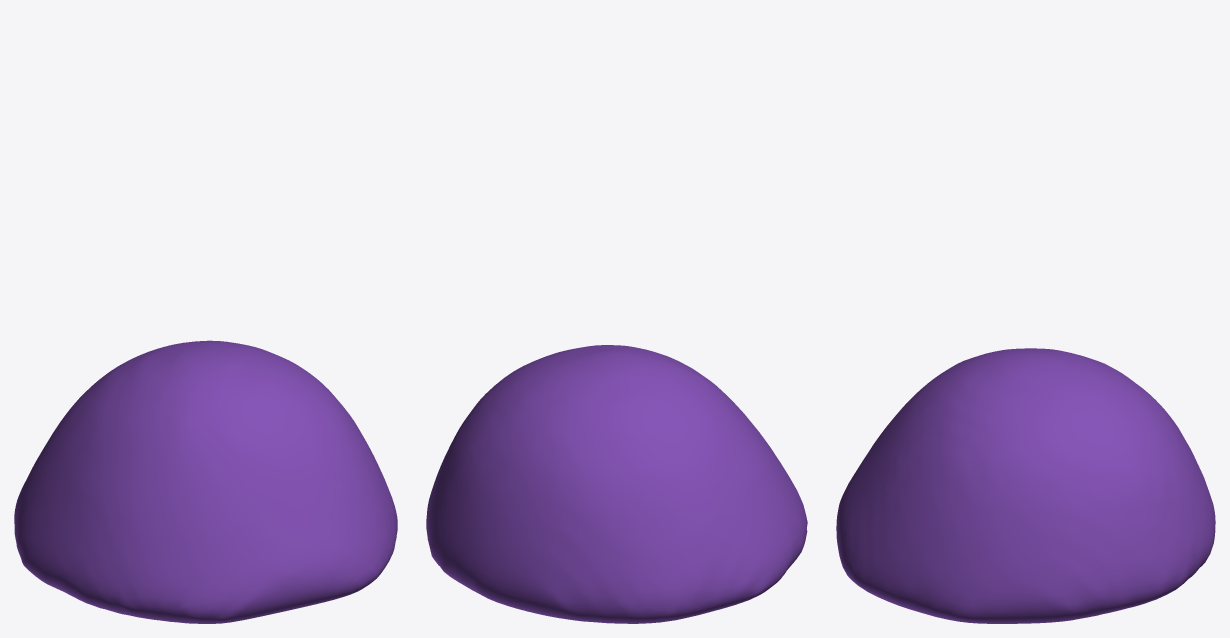
File: slime_0034.dae
3 renders of one model, left to right at view 1: azimuth 30°, elevation 25°; view 2: azimuth 150°, elevation 25°; view 3: azimuth 270°, elevation 25°, orthographic.
Visible parts, largest first — view 1: Slime; view 2: Slime; view 3: Slime.
Part boxes in pixels (left/top/right/bottom): Slime: left=14, top=340, right=397, bottom=623; Slime: left=426, top=345, right=807, bottom=623; Slime: left=836, top=348, right=1215, bottom=623.
Bounding box in the file's own units: 2.39 × 3.77 × 2.37.
